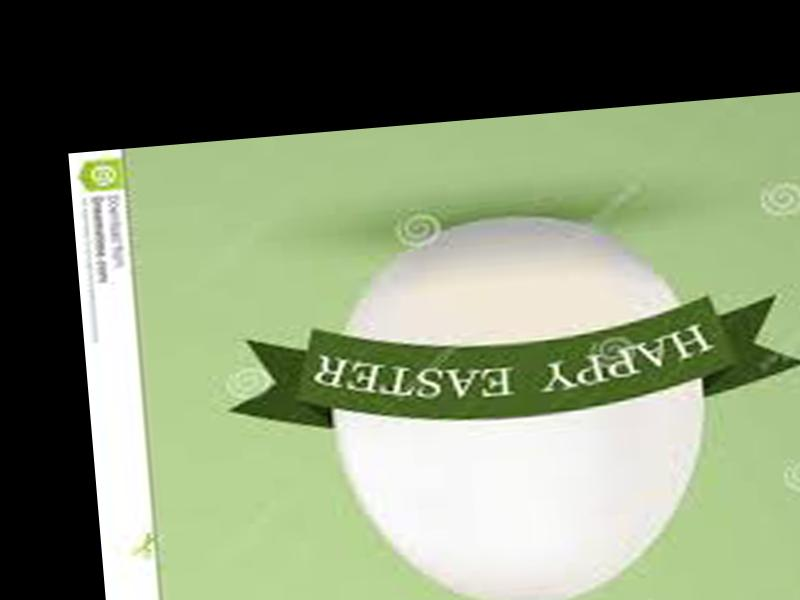Eggs: (316, 204, 715, 600)
